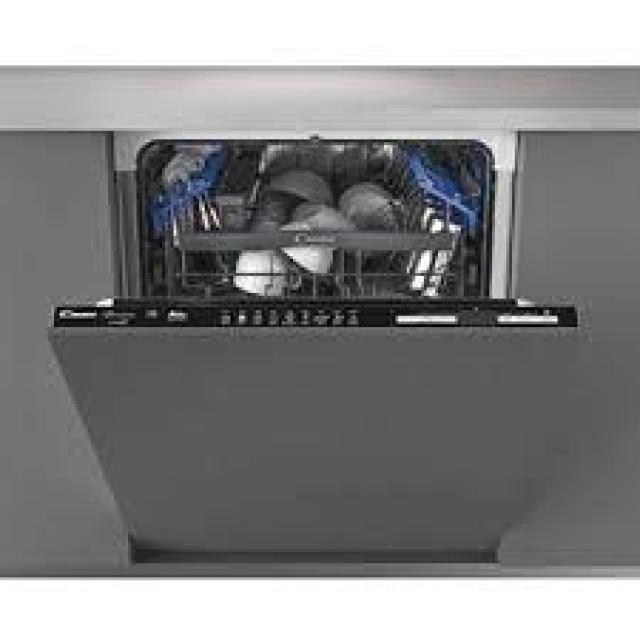dishwasher: (40, 122, 586, 580)
